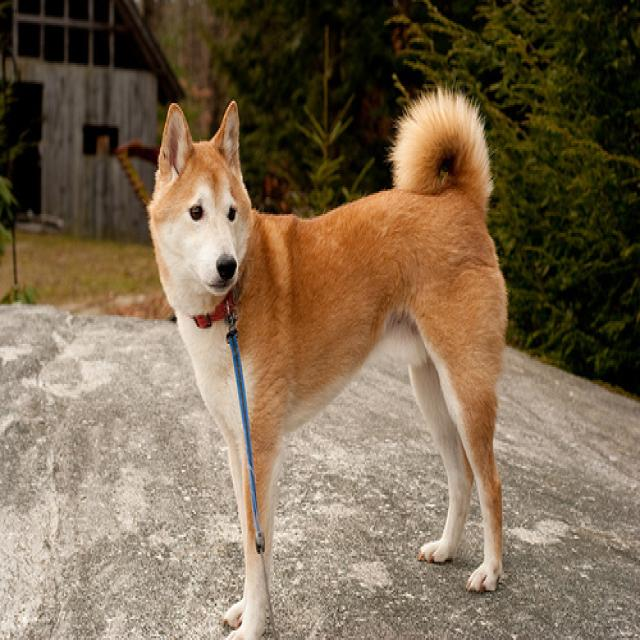dog-shiba_inu: (142, 76, 515, 636)
